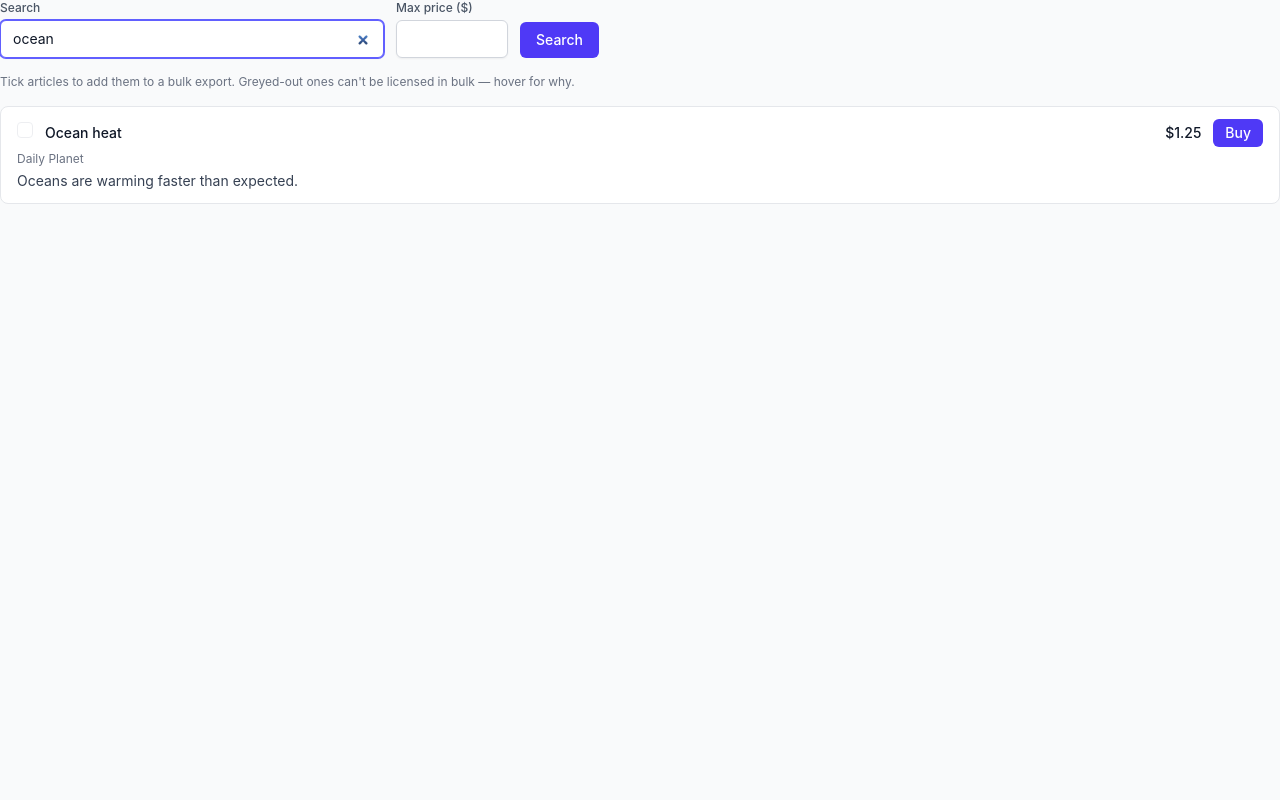
Scenario: ContentSearch › buying a result › a refused buy keeps the results under the confirmation
Click the button with aria-label "Buy Ocean heat": {"x": 1238, "y": 133} [1213, 119, 1263, 147]
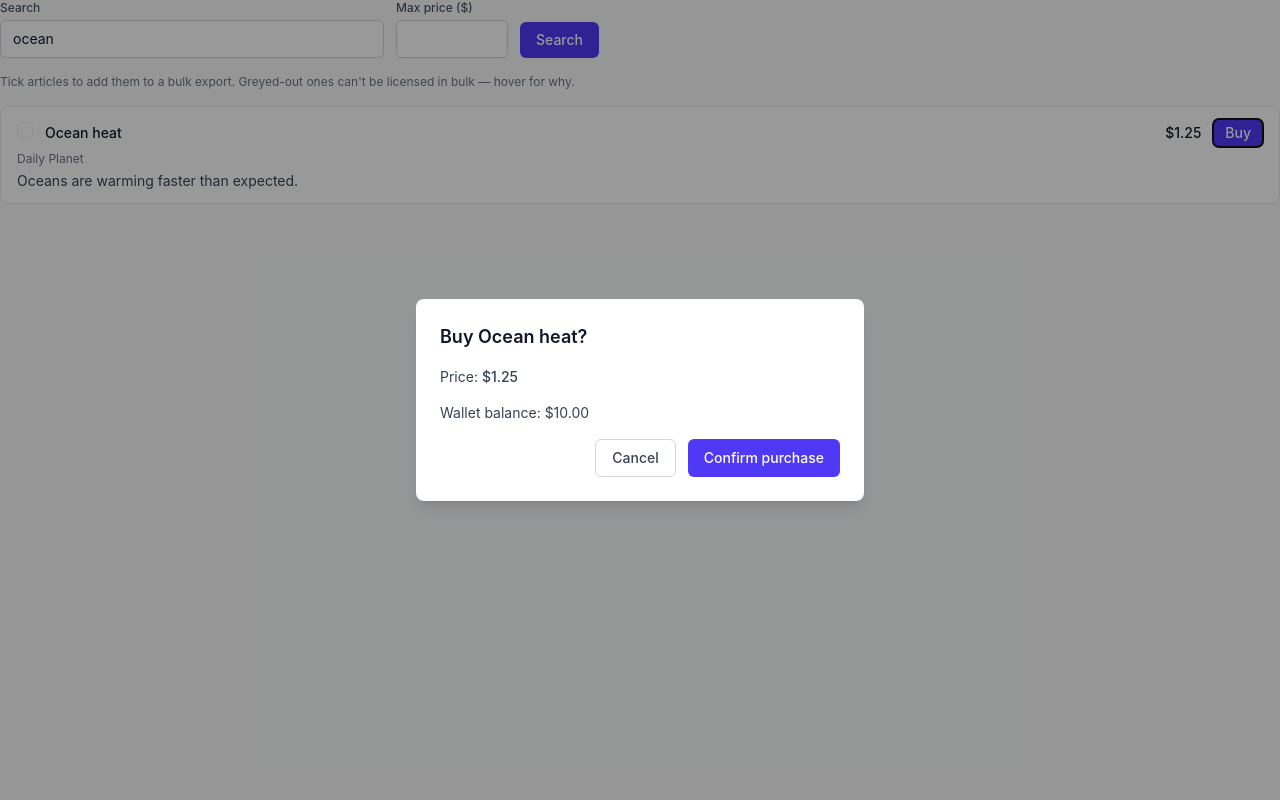
Expected: the text "Wallet balance: $10.00" is shown, [440, 404, 589, 421]
Click the button "Confirm purchase": {"x": 764, "y": 458} [688, 439, 840, 477]
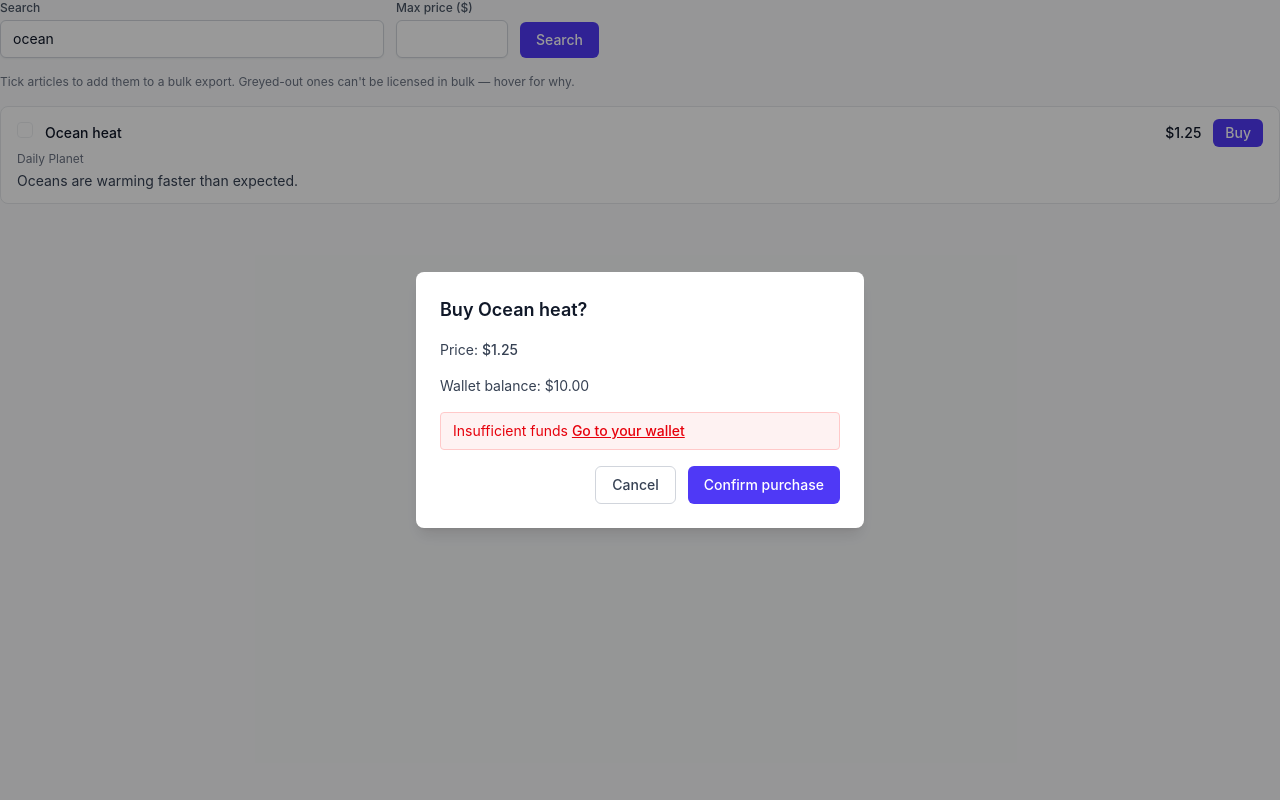
Expected: the text "Ocean heat" is shown, [45, 123, 122, 143]
Expected: the dialog is shown, [416, 272, 864, 528]
Expected: the message shows "Insufficient funds", [453, 422, 568, 439]
